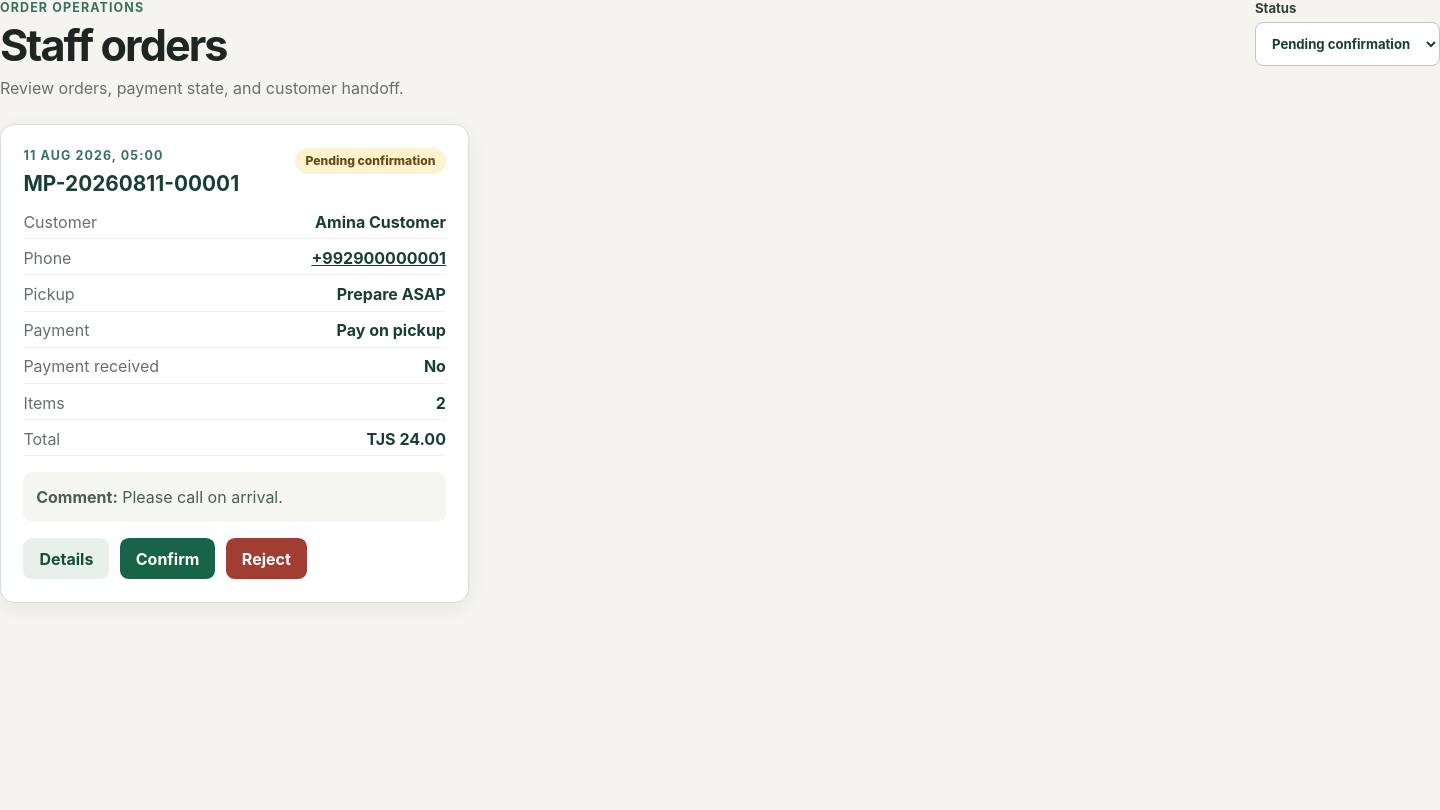
staff order dashboard › requires and submits a rejection reason
Click the button "Reject" at coordinates (266, 559), box left=226, top=538, right=307, bottom=579
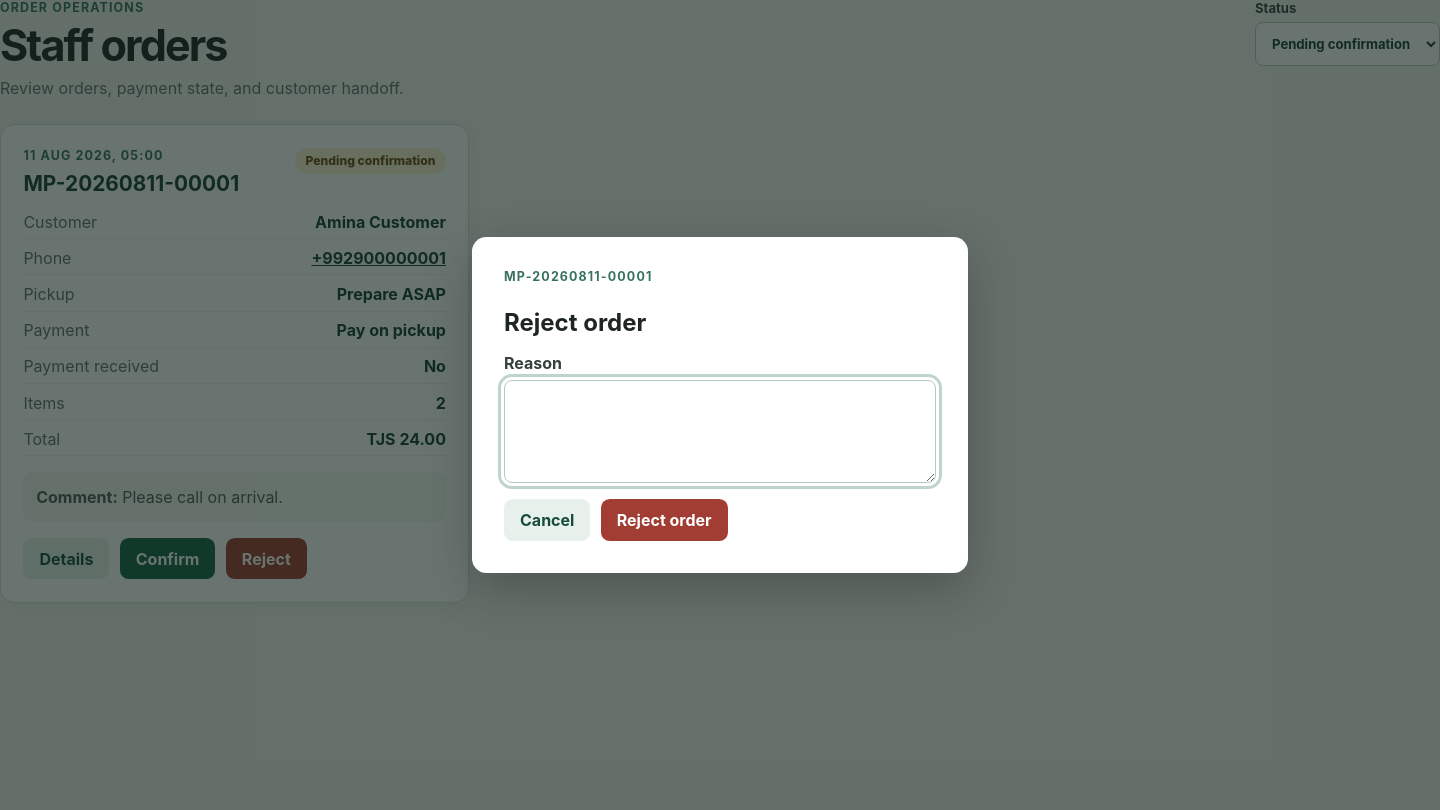
Type "Capacity is full." into the text box labelled "Reason" at coordinates (720, 432), box left=504, top=380, right=936, bottom=483
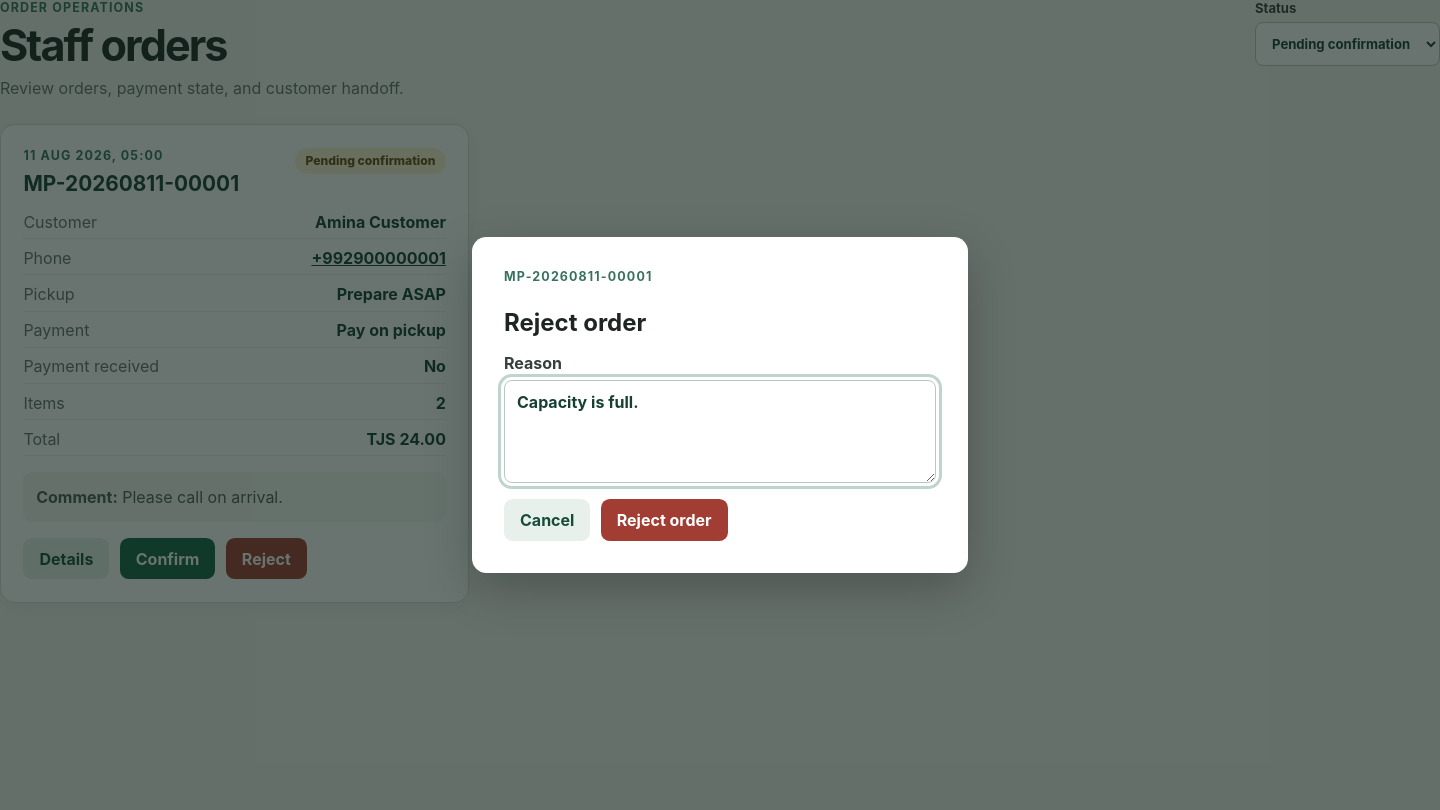
Click the button "Reject order" at coordinates (664, 520), box left=601, top=499, right=728, bottom=541
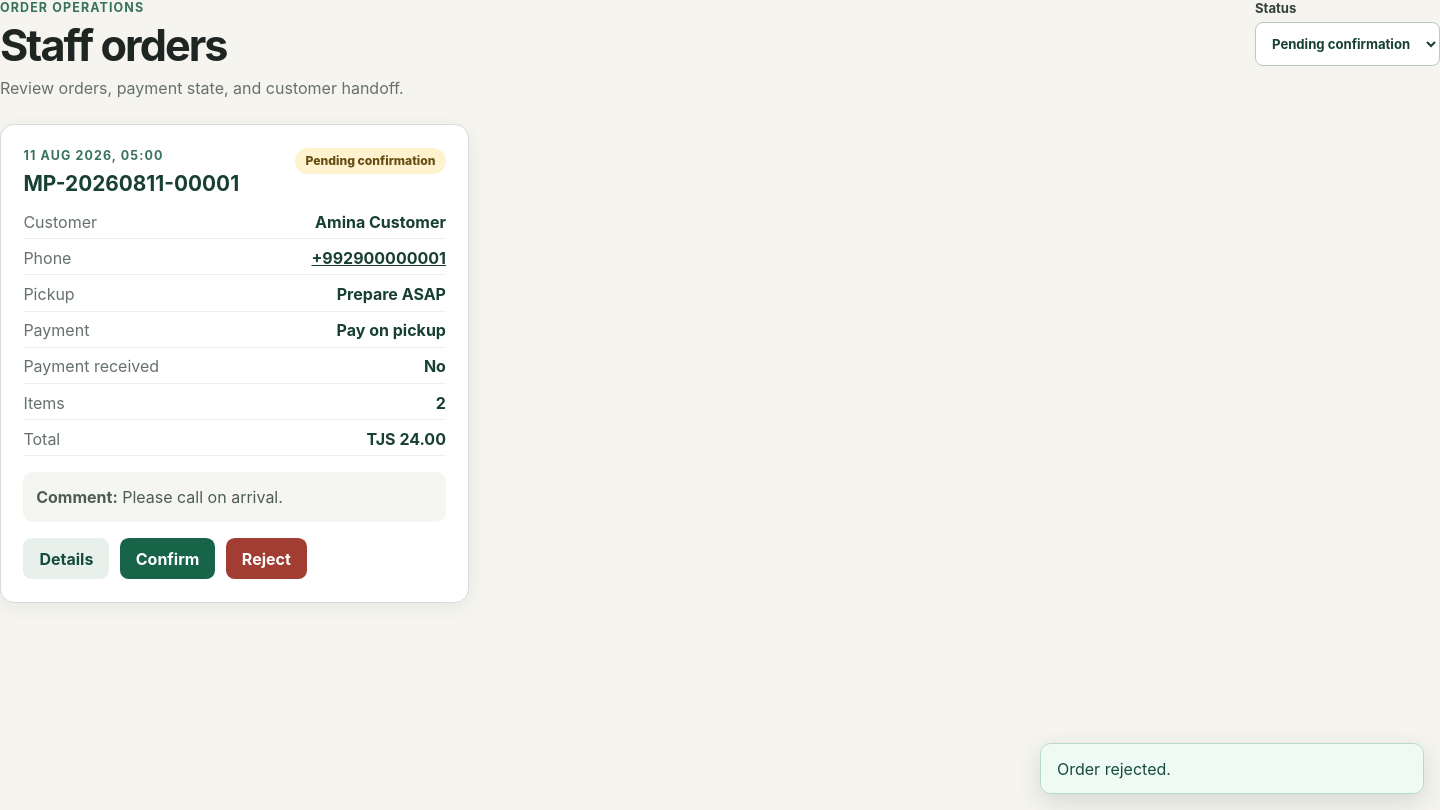
Expected: the text "Order rejected." is shown, left=1040, top=743, right=1424, bottom=794
